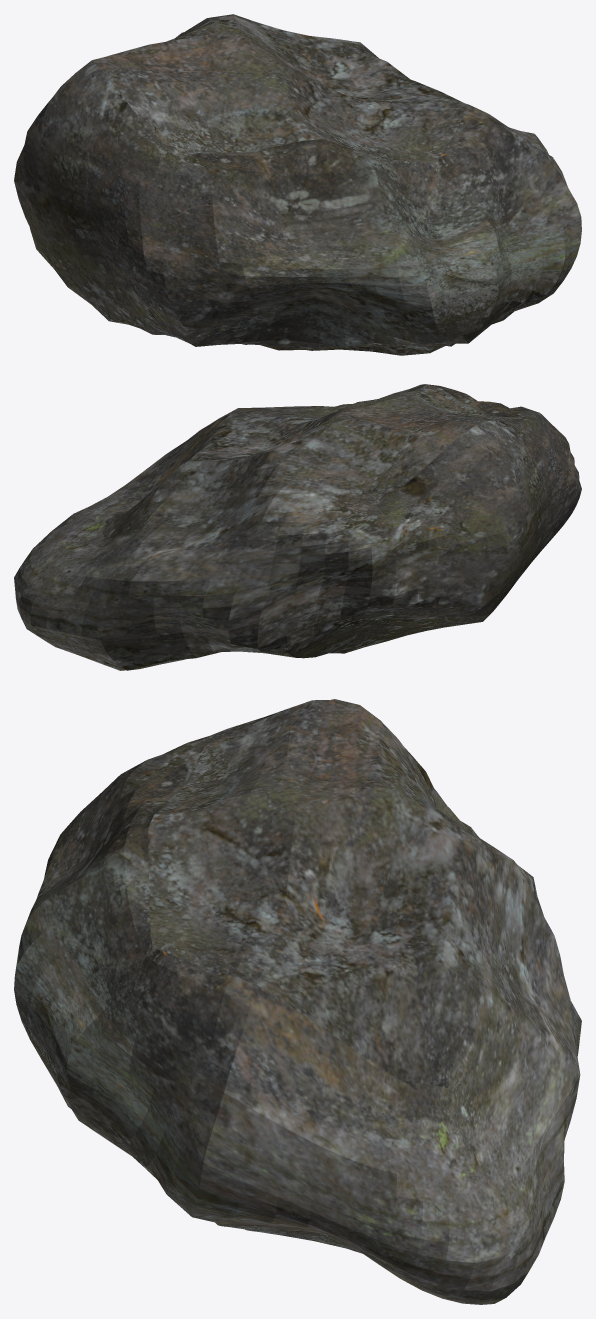
Rendered from fishesInSeaScene.obj.
3 renders of one model, top to bottom at view 1: azimuth 30°, elevation 25°; view 2: azimuth 150°, elevation 25°; view 3: azimuth 270°, elevation 25°, orthographic. The views are drawn at different scales.
Visible parts, largest first — view 1: Cube.004; view 2: Cube.004; view 3: Cube.004.
Part boxes in pixels (x1,y1,x2,y2): Cube.004: (14, 14, 581, 355); Cube.004: (14, 384, 581, 670); Cube.004: (14, 699, 581, 1304).
Bounding box in the file's own units: 1.7 × 0.9765 × 1.33.
1 material, 1 textured.
